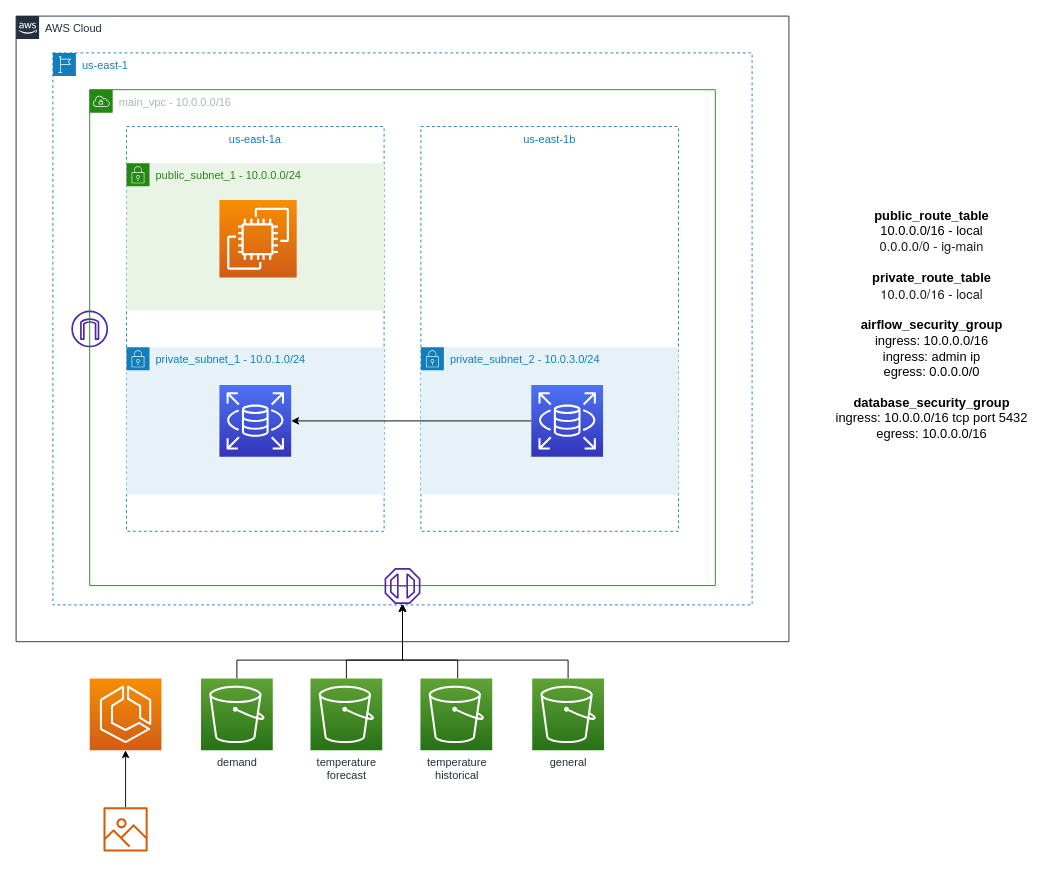
Image size: 1059x887. Some labels were removed from this diagram. Here are the shapes that lost their labels. From the top down, the centre of each, then its label:
At (257,238): "airflow".
At (89,328): "internet gateway".
At (254,420): "postgres-db".
At (402,586): "S3 endpoint".
At (125,829): "electrical-demand".
